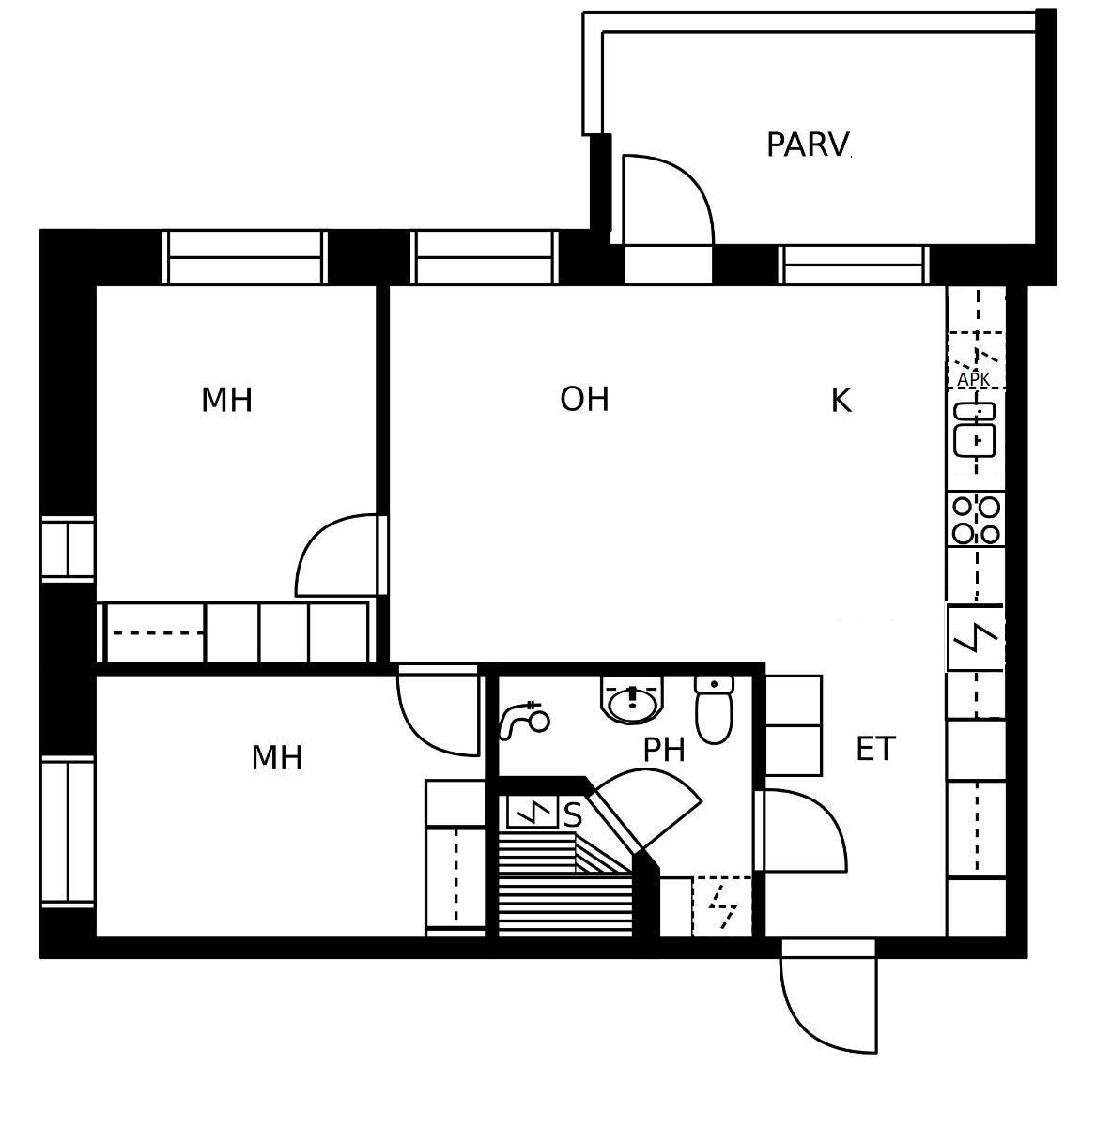door: (617, 154, 721, 291), (777, 936, 882, 1059), (590, 754, 704, 859), (748, 787, 855, 886), (396, 669, 496, 772), (298, 505, 397, 603)
window: (160, 230, 330, 284), (38, 750, 95, 909), (771, 235, 935, 286), (411, 229, 560, 280), (41, 512, 92, 586)
zone: (394, 286, 1011, 941), (94, 287, 383, 656), (95, 675, 488, 941), (607, 30, 1032, 244), (498, 678, 745, 933)
